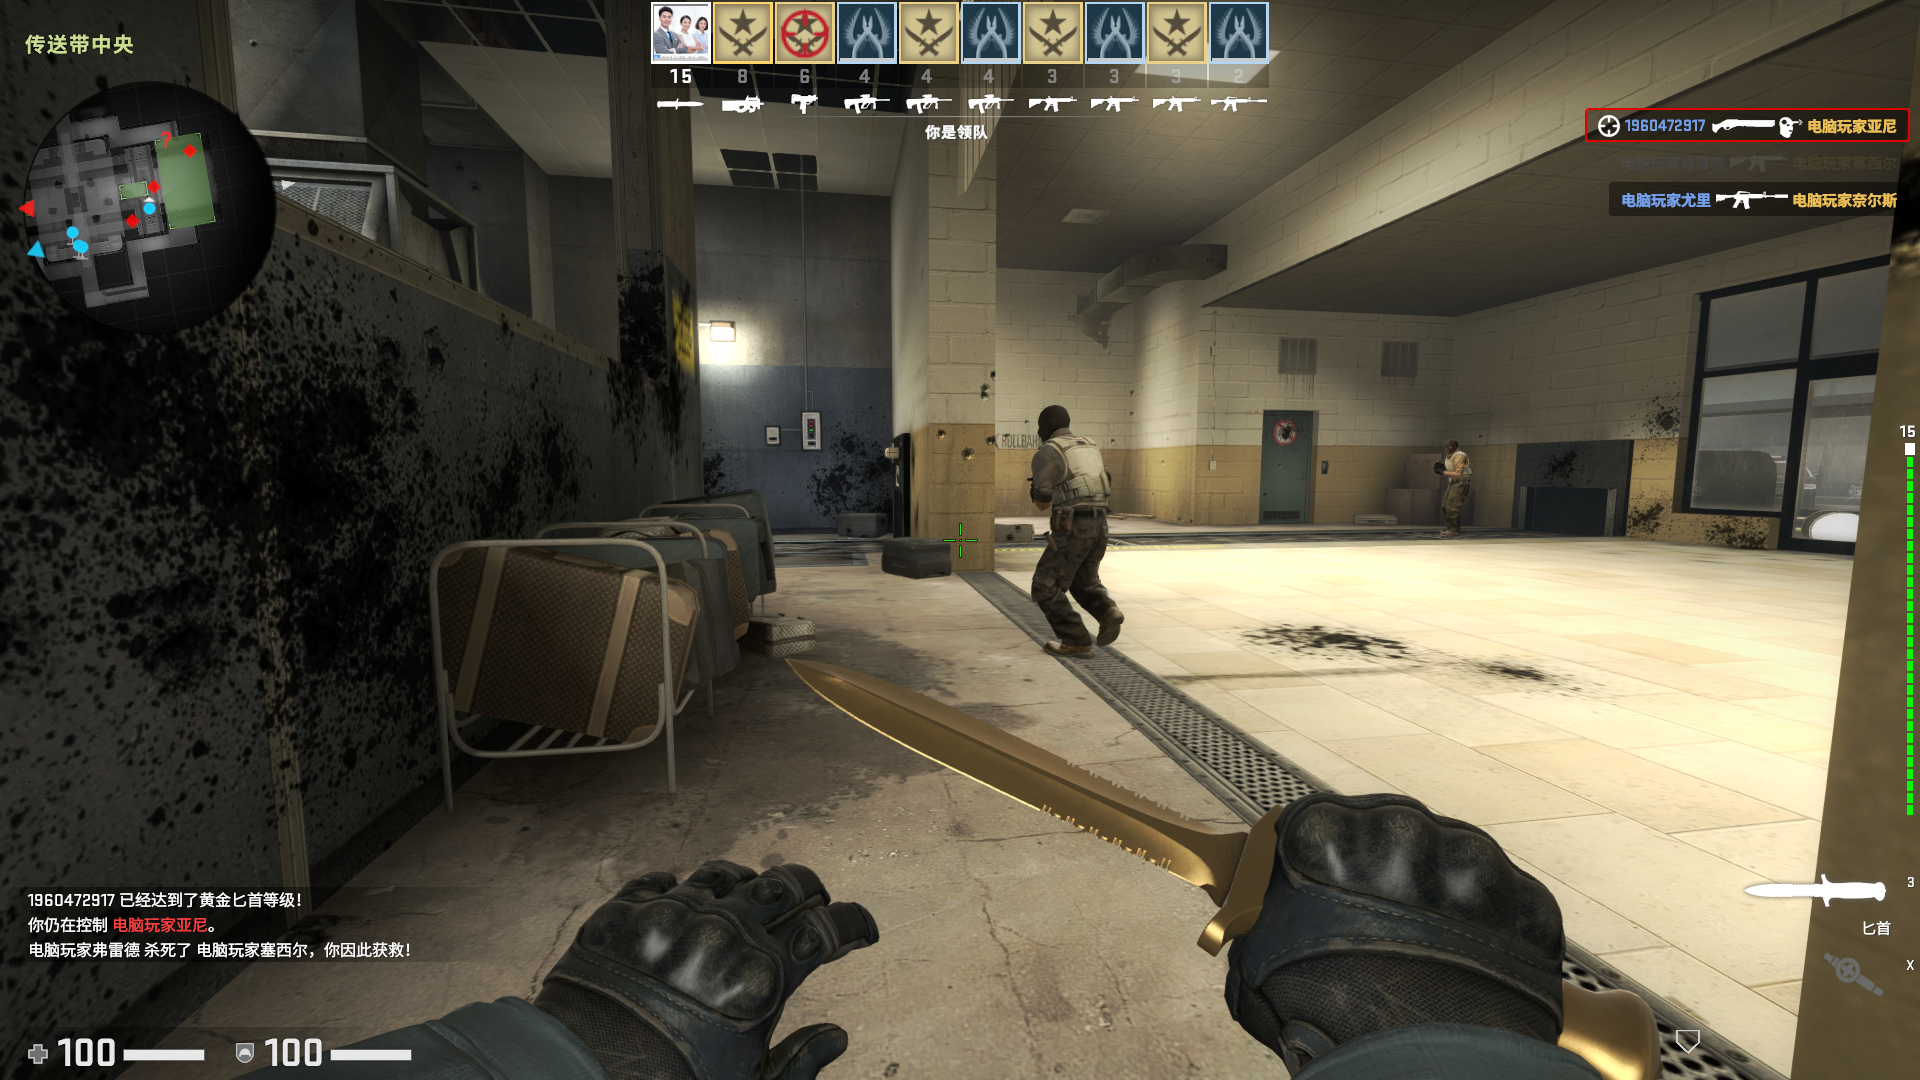person: (1017, 402, 1133, 658), (1433, 441, 1471, 540)
